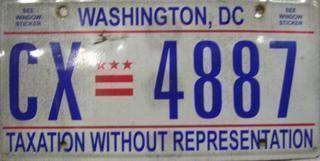placa de veiculo: (3, 0, 320, 160)
